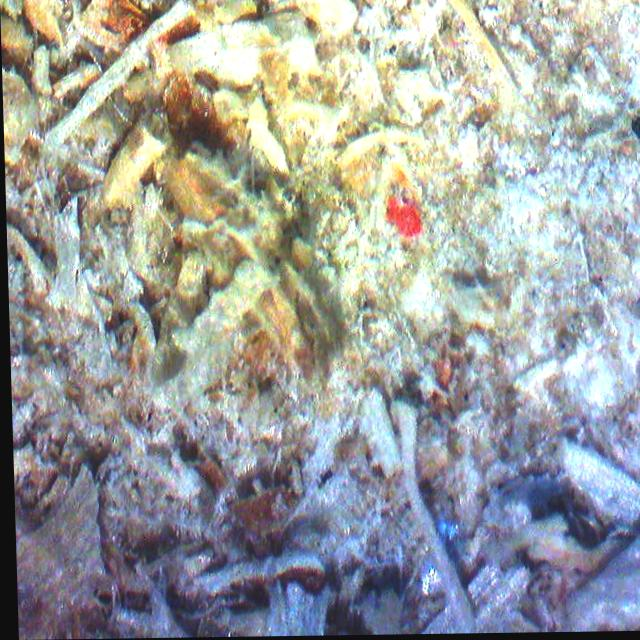microplastic: (376, 195, 429, 244)
